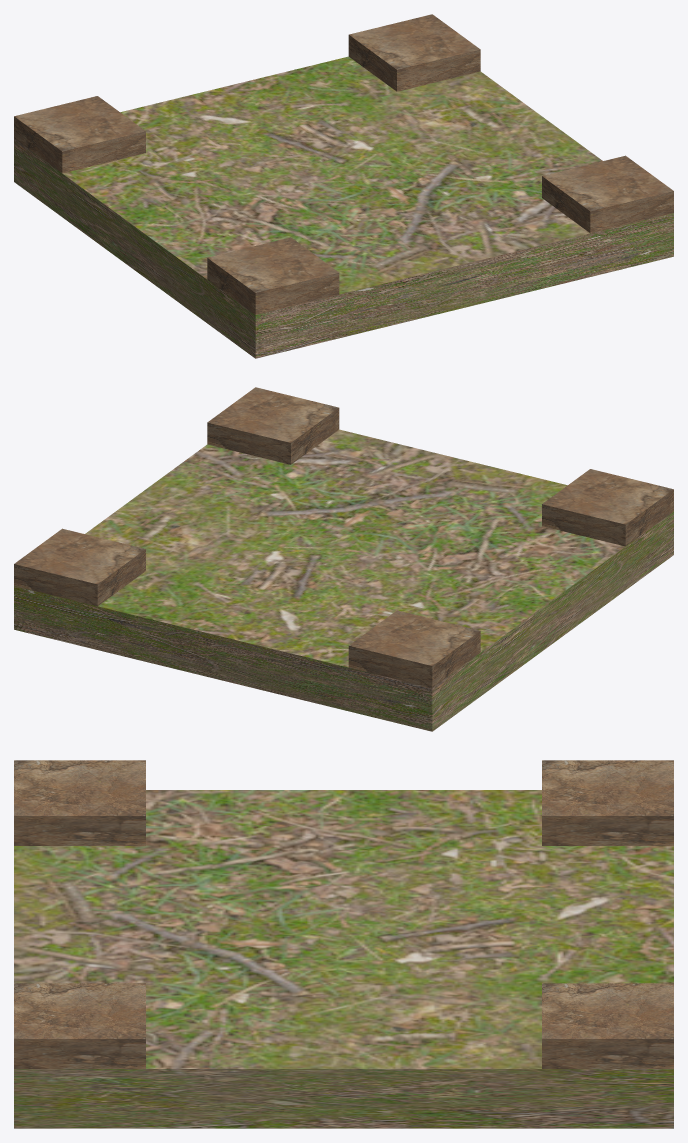
File: Four-Way.glb
3 renders of one model, top to bottom at view 1: azimuth 30°, elevation 25°; view 2: azimuth 150°, elevation 25°; view 3: azimuth 270°, elevation 25°, orthographic. The views are drawn at different scales.
Parts seen in each view (by area): view 1: 4-Way Tile, Cube.001, Cube.004, Cube.002, Cube.003; view 2: 4-Way Tile, Cube.003, Cube.002, Cube.004, Cube.001; view 3: 4-Way Tile, Cube.001, Cube.002, Cube.003, Cube.004.
Part boxes in pixels (left/top/right/bottom): 4-Way Tile: left=14, top=56, right=673, bottom=358; Cube.001: left=207, top=237, right=339, bottom=314; Cube.004: left=348, top=14, right=480, bottom=91; Cube.002: left=542, top=155, right=673, bottom=233; Cube.003: left=14, top=96, right=145, bottom=173; 4-Way Tile: left=14, top=429, right=673, bottom=731; Cube.003: left=348, top=610, right=480, bottom=687; Cube.002: left=207, top=387, right=339, bottom=464; Cube.004: left=14, top=528, right=145, bottom=606; Cube.001: left=542, top=469, right=673, bottom=546; 4-Way Tile: left=14, top=790, right=673, bottom=1128; Cube.001: left=14, top=760, right=145, bottom=845; Cube.002: left=14, top=983, right=145, bottom=1068; Cube.003: left=542, top=760, right=673, bottom=845; Cube.004: left=542, top=983, right=673, bottom=1068.
Bounding box in the file's own units: 1 × 0.15 × 1.
2 materials, 2 textured.
